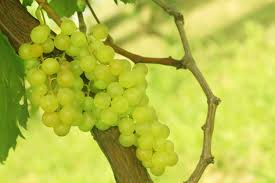grapes: (20, 17, 180, 176)
